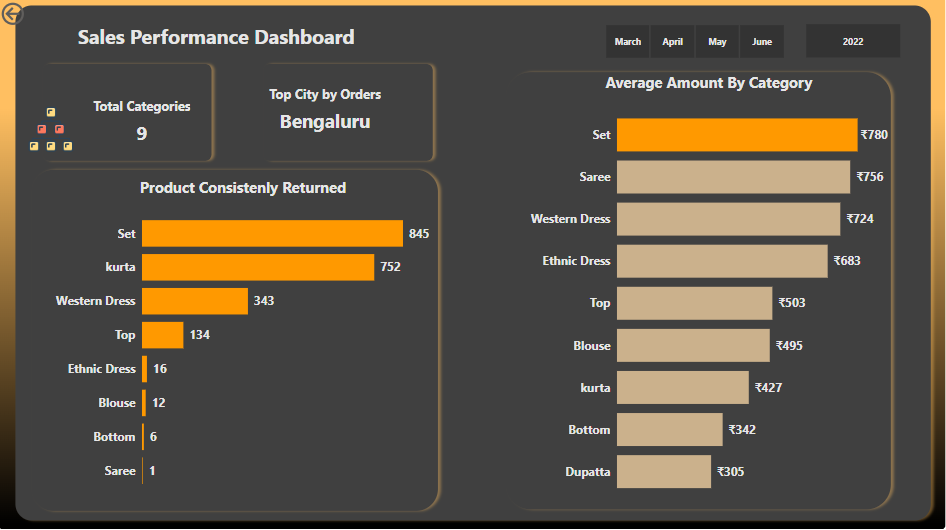

This screenshot's page, from the dashboard's own definition file:
{"tool":"powerbi","page":{"name":"Page 2","canvas":[1280,720],"ordinal":1},"visuals":[{"type":"cardVisual","fields":{"Data":["Amazon sales report.Total Categories"]},"box":[107.2,114.5,175.4,82.6],"z":0},{"type":"cardVisual","fields":{"Data":["Amazon sales report.Top City by Orders"]},"box":[329,98.6,227.5,98.6],"z":1000},{"type":"image","box":[30.4,140.6,81.2,71],"z":2000},{"type":"slicer","title":"YEAR","fields":{"Values":["Amazon sales report.Month Name"]},"box":[795.7,29,289.9,58],"z":3000},{"type":"slicer","title":"YEAR","fields":{"Values":["Amazon sales report.order_year"]},"box":[1066.7,27.5,176.8,59.4],"z":4000},{"type":"textbox","box":[102.9,27.5,452.2,47.8],"z":5000},{"type":"barChart","title":"Product Consistenly Returned","fields":{"Category":["public insight_13.category"],"Y":["Sum(public insight_13.returned_count)"]},"box":[71,240.6,518.8,439.1],"z":6001},{"type":"clusteredBarChart","title":"Average Amount By Category ","fields":{"Category":["Amazon sales report.category"],"Y":["Avg(Amazon sales report.amount)"]},"box":[713,98.6,494.2,591.3],"z":6002},{"type":"actionButton","box":[0,0,100,40],"z":6003}]}

Visuals, with their boxes in screenshot pixels (x1, y1, x2, y2), scaled from the page's 1280x720 canvas onto the 946x530 screenshot:
cardVisual - Amazon sales report.Total Categories: [x1=79, y1=84, x2=209, y2=145]
cardVisual - Amazon sales report.Top City by Orders: [x1=243, y1=73, x2=411, y2=145]
image: [x1=22, y1=103, x2=82, y2=156]
"YEAR" slicer: [x1=588, y1=21, x2=802, y2=64]
"YEAR" slicer: [x1=788, y1=20, x2=919, y2=64]
textbox: [x1=76, y1=20, x2=410, y2=55]
"Product Consistenly Returned" barChart: [x1=52, y1=177, x2=436, y2=500]
"Average Amount By Category " clusteredBarChart: [x1=527, y1=73, x2=892, y2=508]
actionButton: [x1=0, y1=0, x2=74, y2=29]
